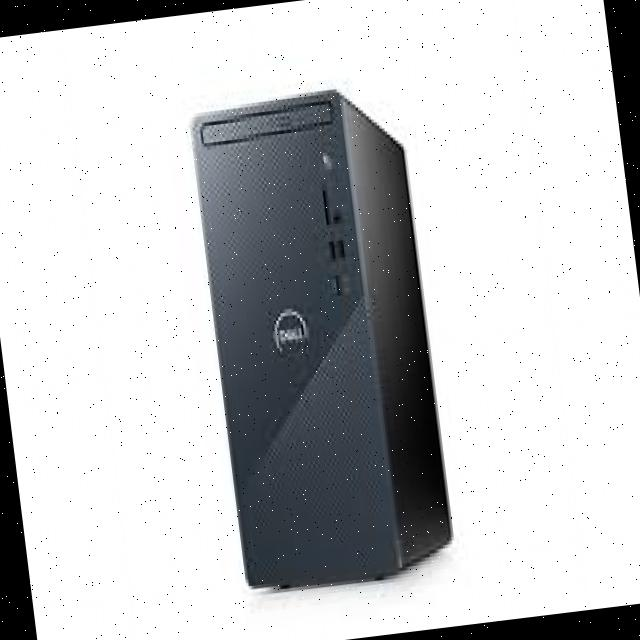Computer: (166, 57, 472, 618)
